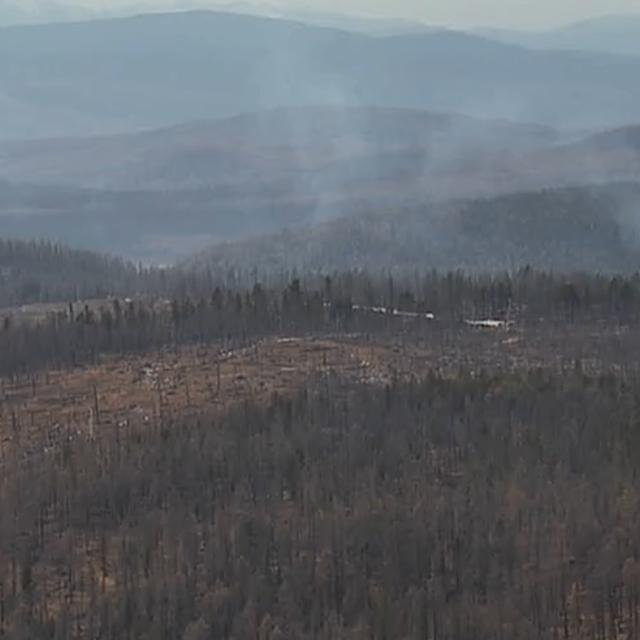Smoke: (88, 37, 638, 261)
